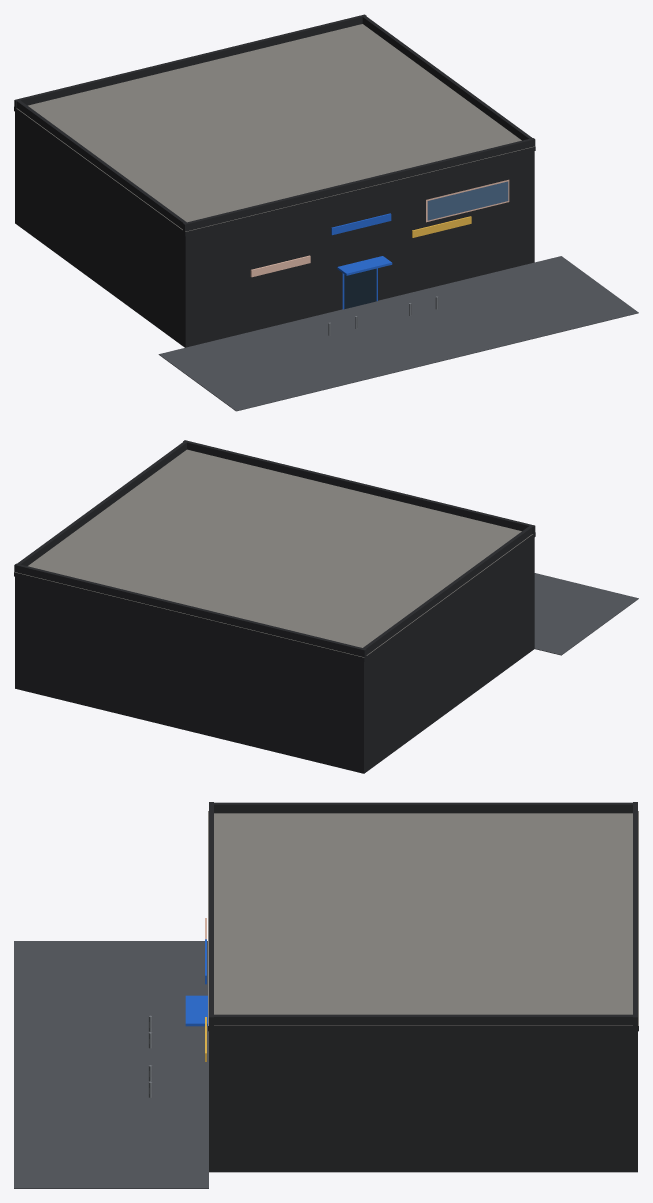
The model's file is discotheque.glb.
The picture shows the model from 3 angles, top to bottom: view 1: azimuth 30°, elevation 25°; view 2: azimuth 150°, elevation 25°; view 3: azimuth 270°, elevation 25°; orthographic projection. The views are drawn at different scales.
Parts seen in each view (by area): view 1: discotheque; view 2: discotheque; view 3: discotheque.
Part boxes in pixels (<box>): discotheque: <box>14,14,638,411</box>; discotheque: <box>14,440,638,773</box>; discotheque: <box>14,802,638,1188</box>.
Size of the model in its own units: 30 by 8.8 by 32.05.
Materials: 1 (1 with a texture image).
